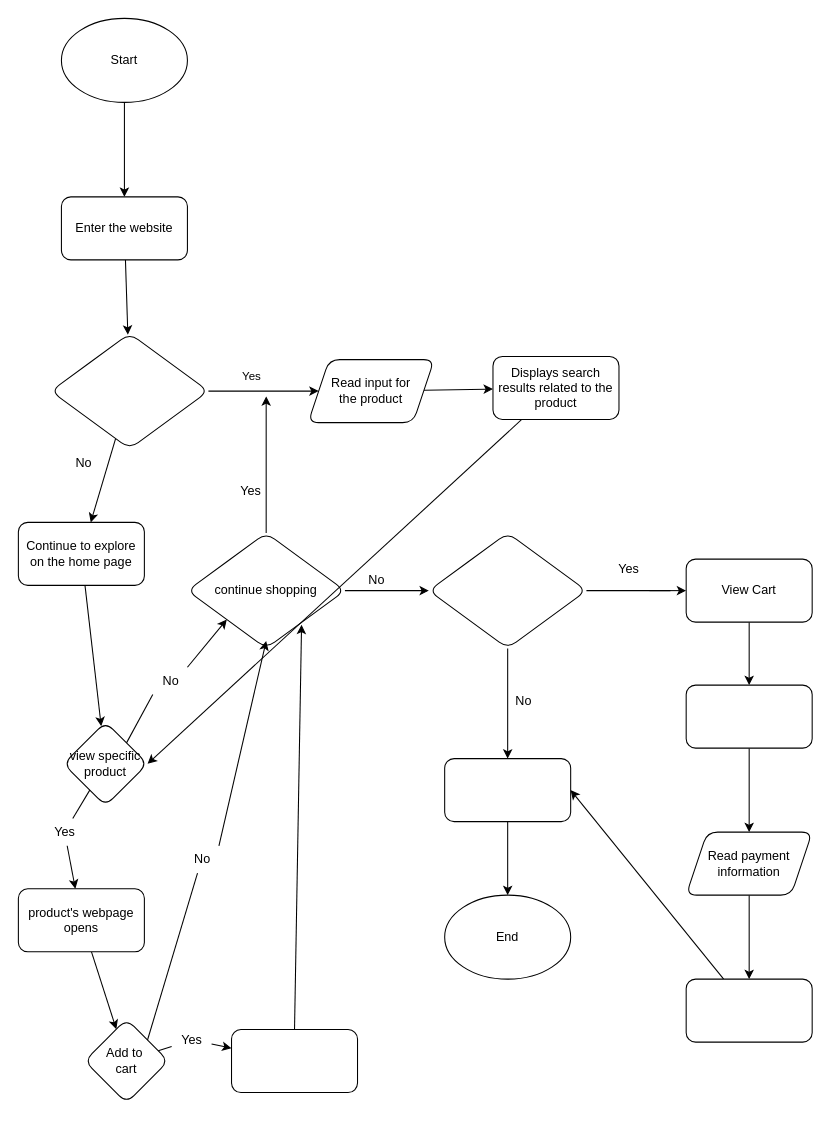
Image size: 831x1121. Some labels were removed from this diagram. Here are the shapes that lost their labels. From the top down, the centre of each, then its label:
At point 129,390: "Search for product".
At point 507,590: "checkout".
At point 748,716: "View Payment".
At point 507,790: "Exit website".
At point 748,1010: "Order confirmation screen and receive email".
At point 294,1060: "Added to cart confirmation message".
